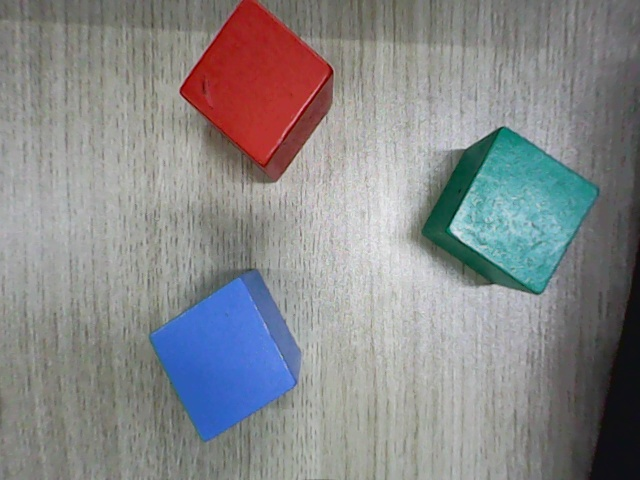upside of big cube: (448, 126, 600, 292), (179, 0, 331, 163), (149, 278, 296, 444)
